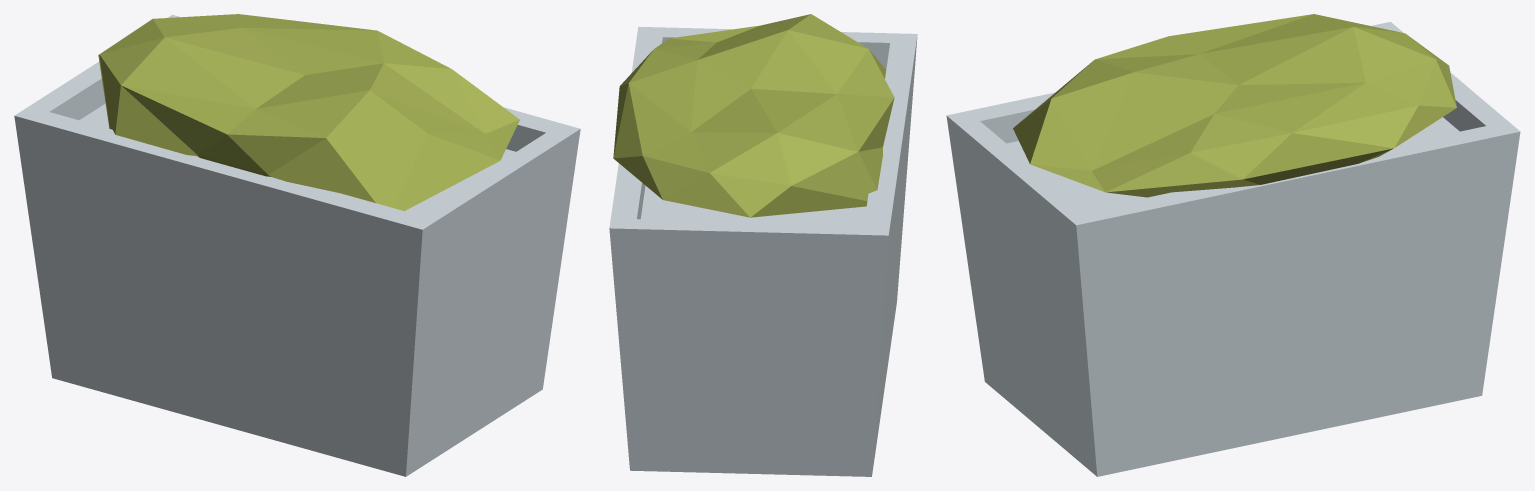
File: potted plants.fbx
The picture shows the model from 3 angles, left to right: view 1: azimuth 30°, elevation 25°; view 2: azimuth 150°, elevation 25°; view 3: azimuth 270°, elevation 25°; orthographic projection. The views are drawn at different scales.
Visible parts, largest first — view 1: Cube.005, Icosphere; view 2: Cube.005, Icosphere; view 3: Cube.005, Icosphere.
Boxes of the visible parts, x1,y1,x2,y2 form: Cube.005: (14, 14, 580, 476); Icosphere: (98, 14, 519, 210); Cube.005: (609, 26, 917, 476); Icosphere: (613, 14, 894, 217); Cube.005: (946, 22, 1520, 476); Icosphere: (1013, 14, 1456, 197).
Size of the model in its own units: 595 by 447 by 709.
